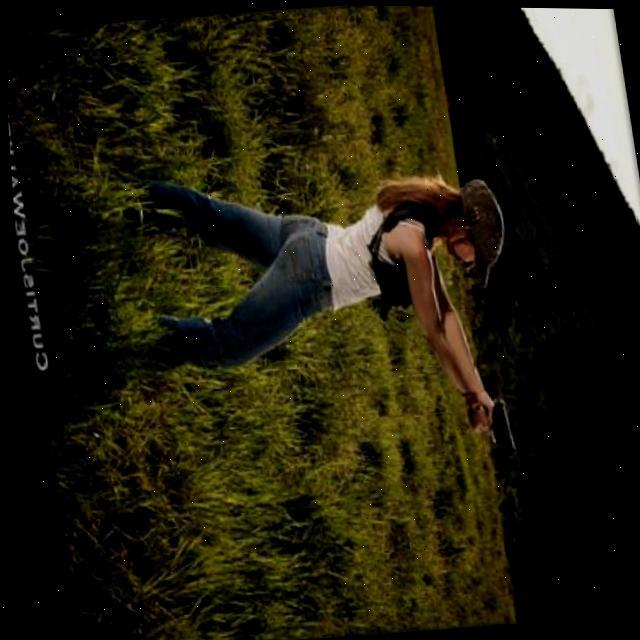gun: (460, 392, 514, 453)
